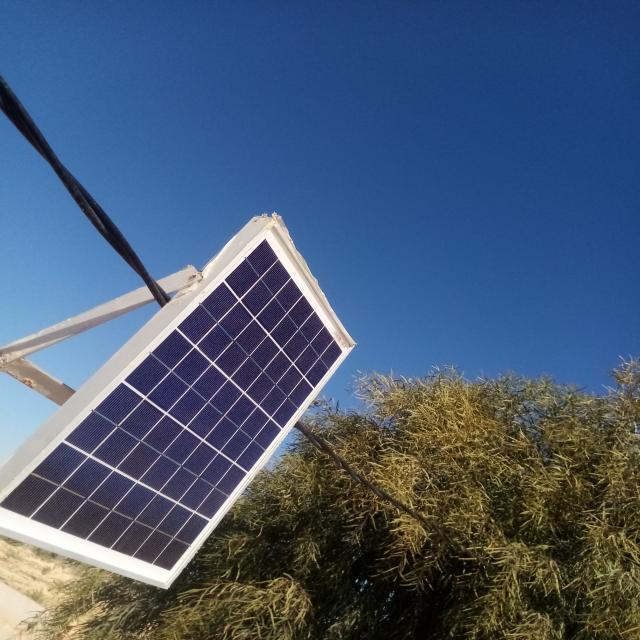no faulty: (0, 222, 357, 588)
